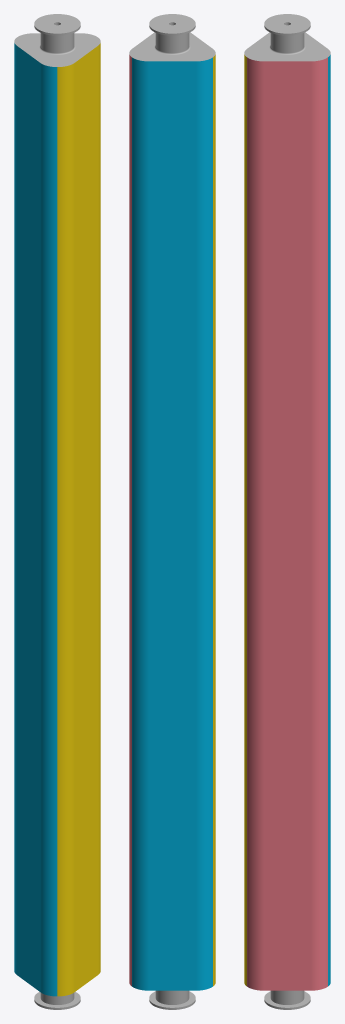
The model's file is toggle.glb.
3 views of the same model, side by side, from view 1: azimuth 90°, elevation 25°; view 2: azimuth 150°, elevation 25°; view 3: azimuth 270°, elevation 25° (orthographic).
Parts seen in each view (by area): view 1: Roller - Main; view 2: Roller - Main; view 3: Roller - Main.
Part boxes in pixels (left/top/right/bottom): Roller - Main: left=14, top=14, right=100, bottom=1009; Roller - Main: left=129, top=14, right=215, bottom=1009; Roller - Main: left=244, top=14, right=330, bottom=1009.
Size of the model in its own units: 0.0516 by 0.6936 by 0.0556.
